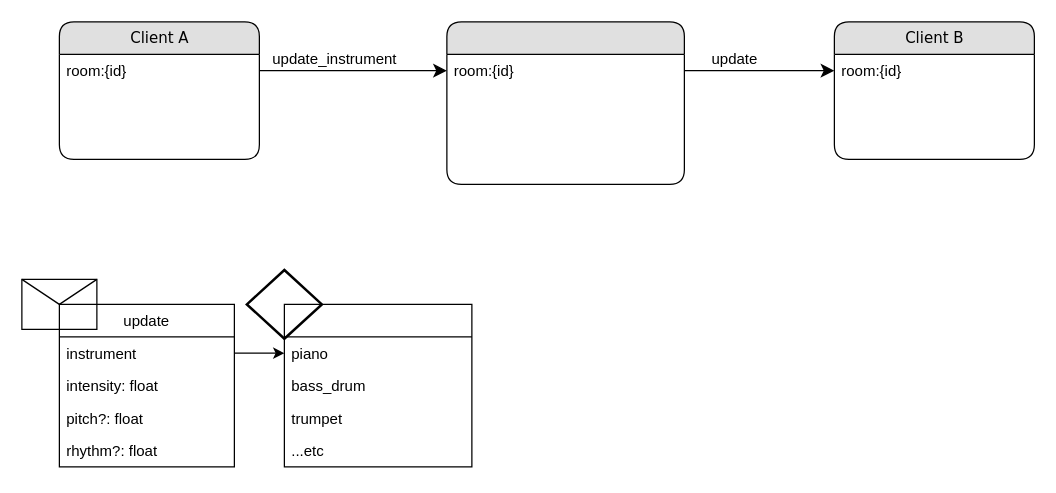
The diagram is 1056 pixels wide and 493 high, and some of its shapes have lost their labels. The box of each missing label's shape, as (x1, y1, x2, y2) in pixels:
instrument (examples): (283, 303, 472, 467)
Room Channel: (446, 21, 684, 184)
